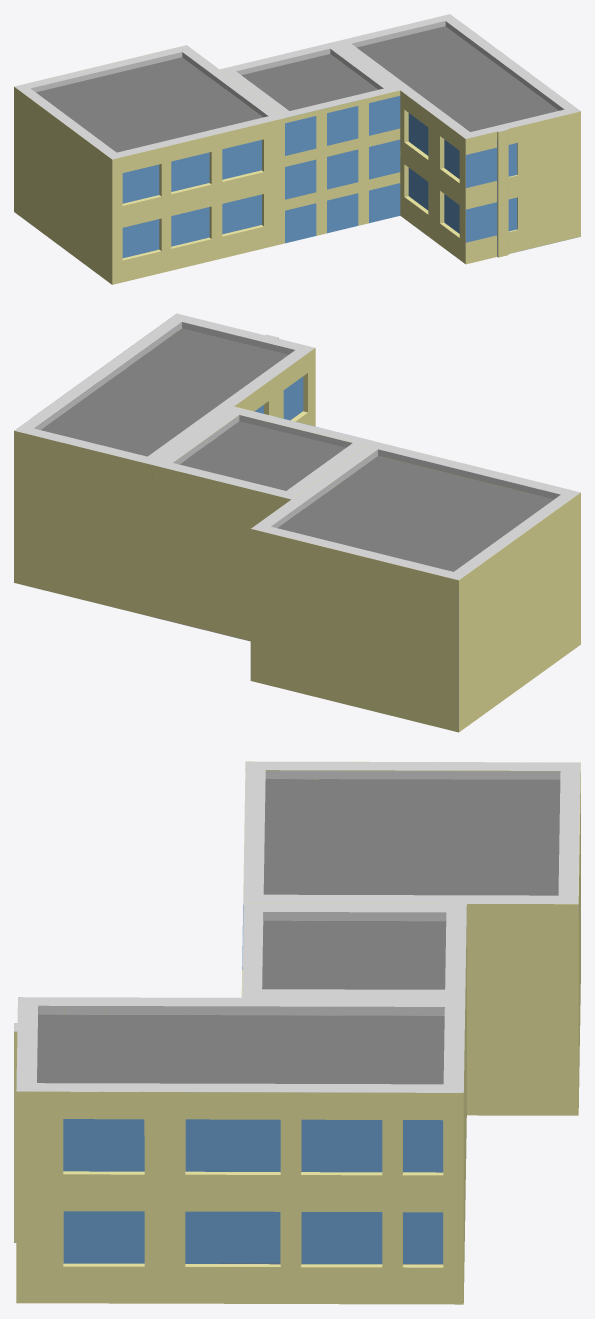
File: fes.glb
3 views of the same model, one above another, from view 1: azimuth 30°, elevation 25°; view 2: azimuth 150°, elevation 25°; view 3: azimuth 270°, elevation 25° (orthographic). The views are drawn at different scales.
Parts seen in each view (by area): view 1: Building_fes; view 2: Building_fes; view 3: Building_fes.
Part boxes in pixels (bbox=[...]): Building_fes: bbox=[14, 14, 580, 284]; Building_fes: bbox=[14, 313, 580, 732]; Building_fes: bbox=[14, 761, 580, 1304].
Bounding box in the file's own units: 7.01 × 2.09 × 5.07.
1 material, 1 textured.
